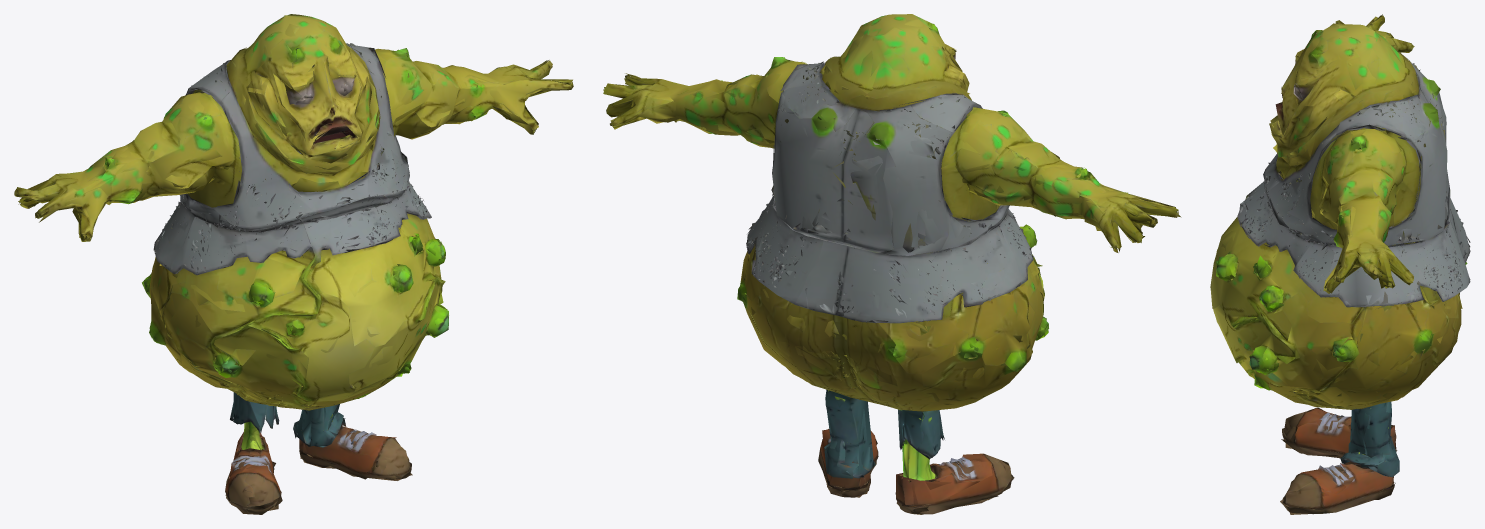
The model's file is BombZombie.fbx.
3 renders of one model, left to right at view 1: azimuth 30°, elevation 25°; view 2: azimuth 150°, elevation 25°; view 3: azimuth 270°, elevation 25°, orthographic. The views are drawn at different scales.
Parts seen in each view (by area): view 1: BombZombie; view 2: BombZombie; view 3: BombZombie.
Boxes of the visible parts, box(x1,y1,x2,y2) form: BombZombie: box(14, 14, 573, 514); BombZombie: box(603, 14, 1181, 514); BombZombie: box(1210, 14, 1470, 514).
Size of the model in its own units: 1.98 by 1.6 by 0.8434.
1 material, 1 textured.
